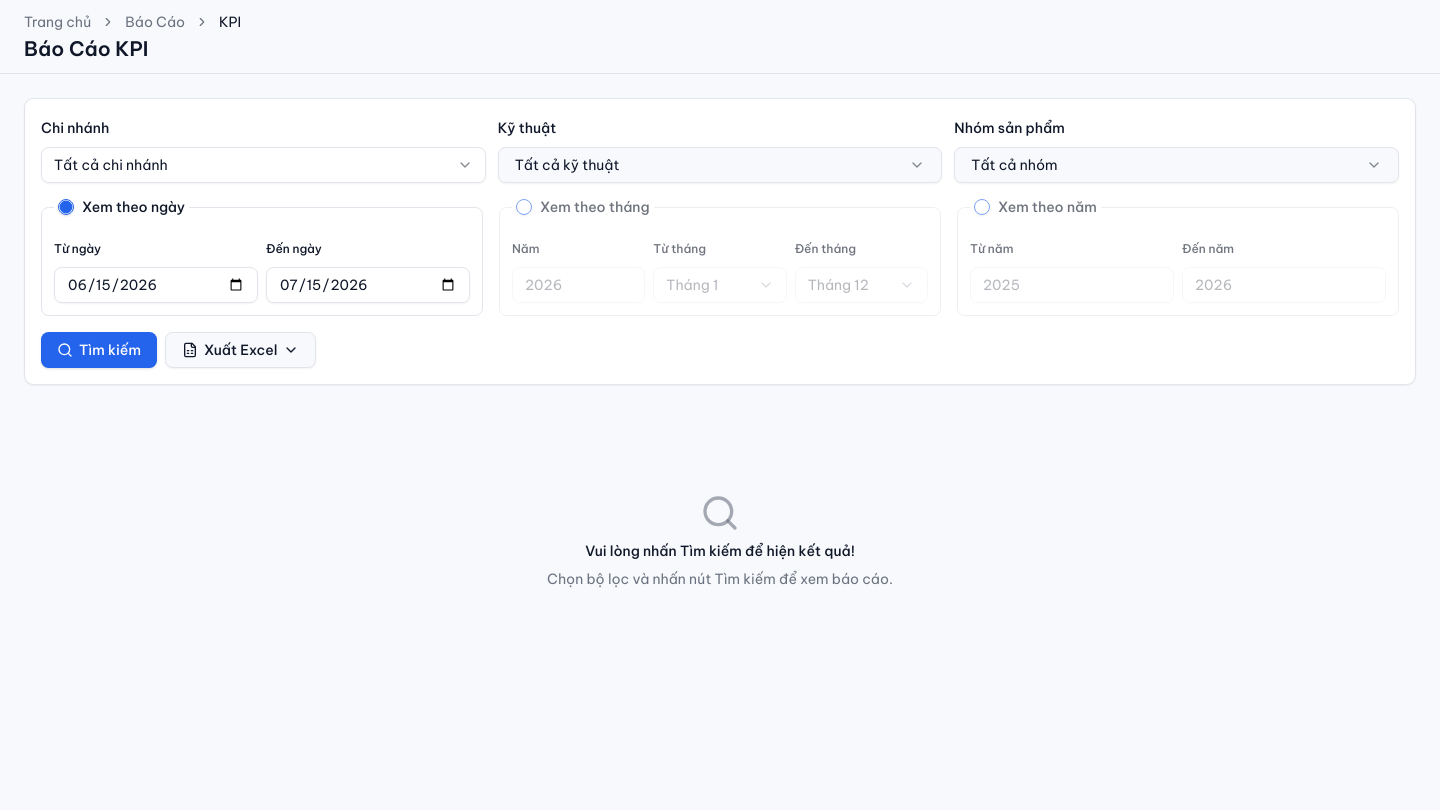
Test case: KpiReportPage › renders the 3 KPI export buttons inside the Xuất Excel menu
Click the button "Xuất Excel": x=241, y=350 [165, 332, 316, 368]
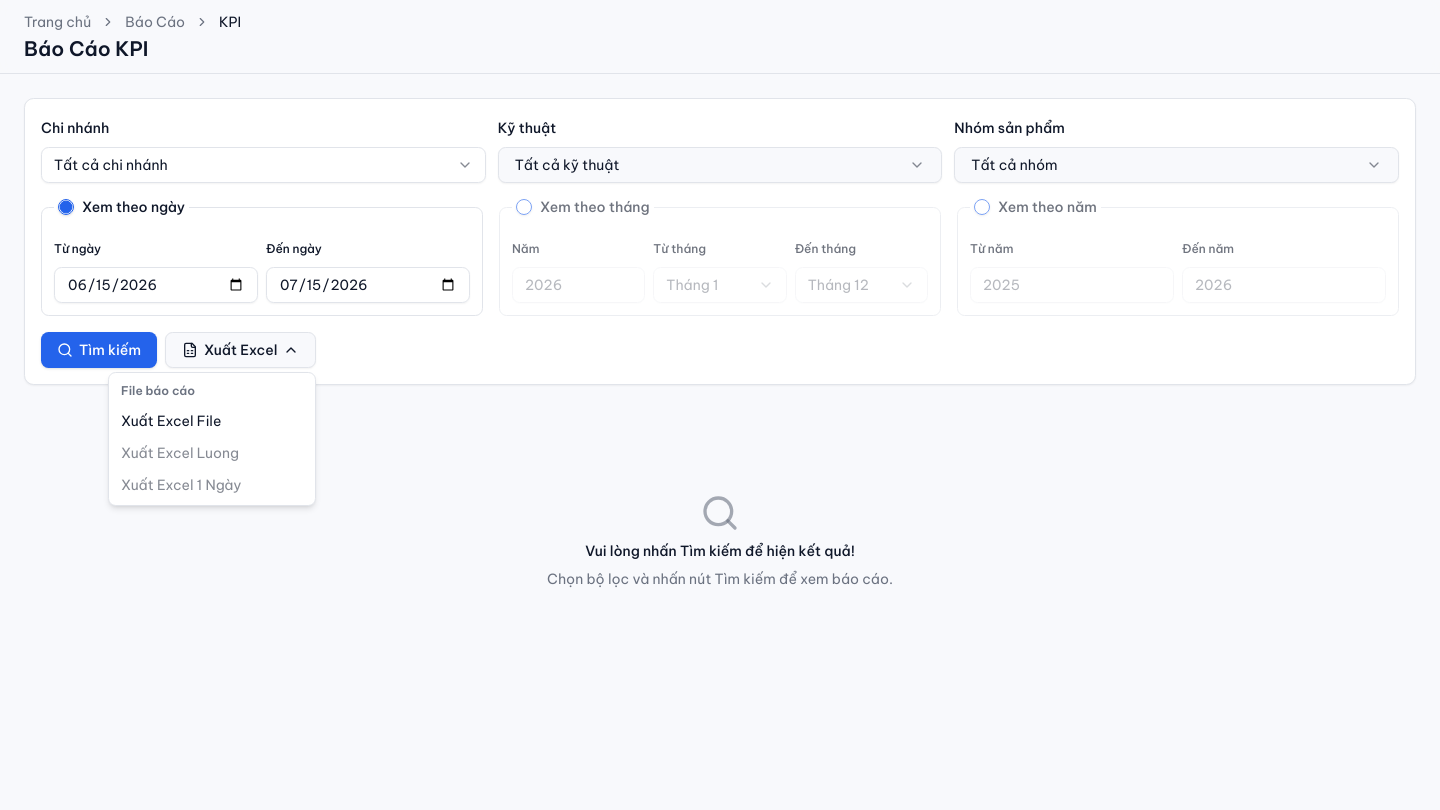
Result: the menu item "Xuất Excel File" is shown at [121, 412, 221, 430]
Result: the menu item "Xuất Excel Luong" is shown at [121, 444, 239, 462]
Result: the menu item "Xuất Excel 1 Ngày" is shown at [121, 476, 242, 494]
